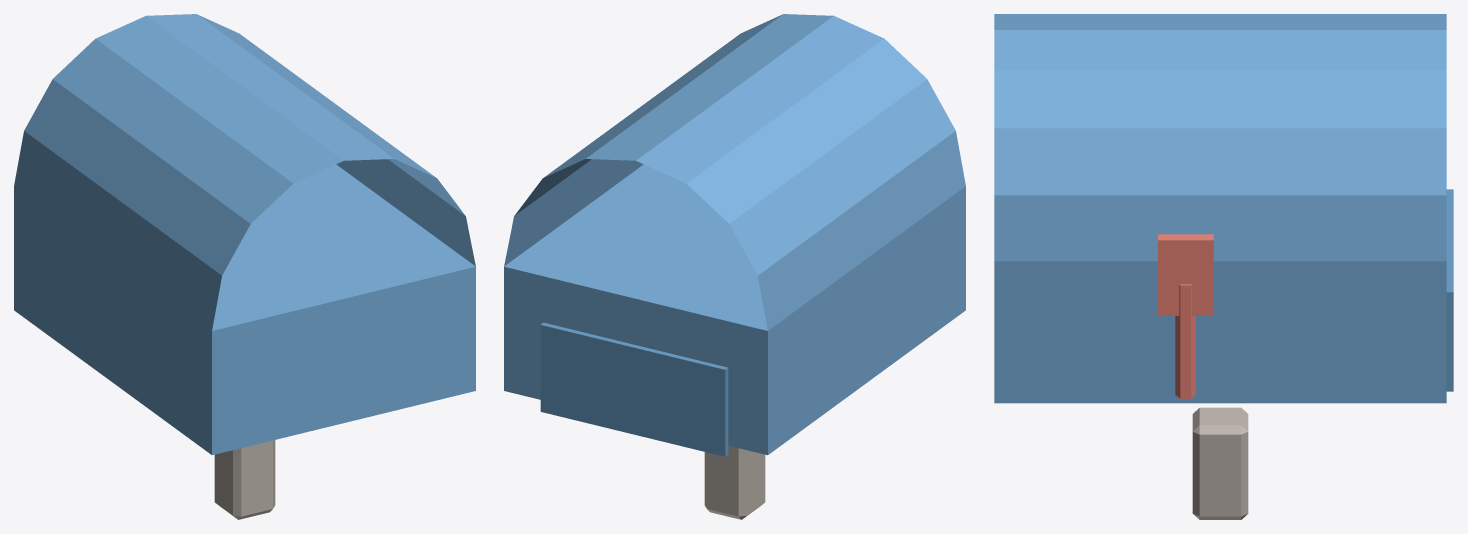
File: Mailbox.fbx
The picture shows the model from 3 angles, left to right: view 1: azimuth 30°, elevation 25°; view 2: azimuth 150°, elevation 25°; view 3: azimuth 270°, elevation 25°; orthographic projection. The views are drawn at different scales.
Visible parts, largest first — view 1: Mailbox; view 2: Mailbox; view 3: Mailbox.
Boxes of the visible parts, x1,y1,x2,y2 form: Mailbox: [14, 14, 475, 519]; Mailbox: [504, 14, 965, 519]; Mailbox: [994, 14, 1453, 519].
Bounding box in the file's own units: 0.533 × 0.7625 × 0.66.
